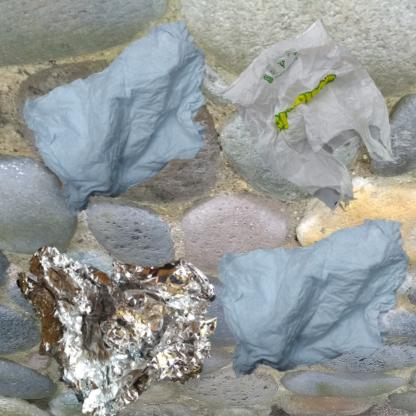aluminio: (10, 213, 243, 416)
bolsa: (213, 10, 408, 216)
papel: (10, 10, 281, 250), (213, 213, 416, 385)
